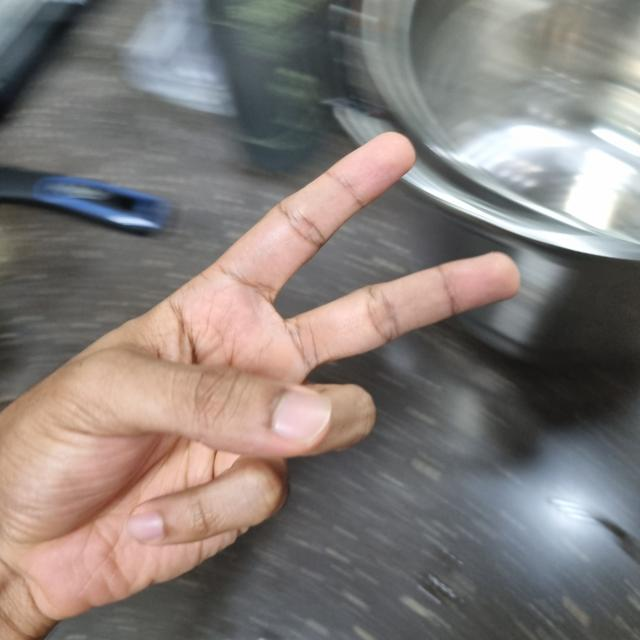Scissors: (1, 127, 514, 622)
